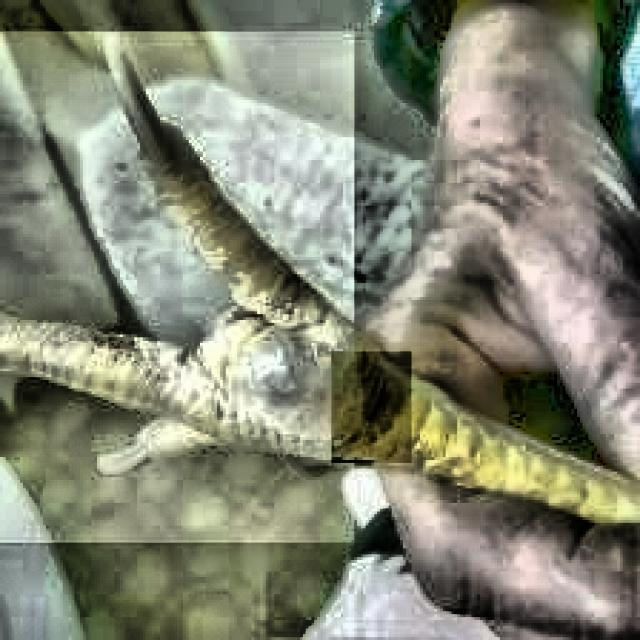Bumble foot: (212, 299, 364, 444)
